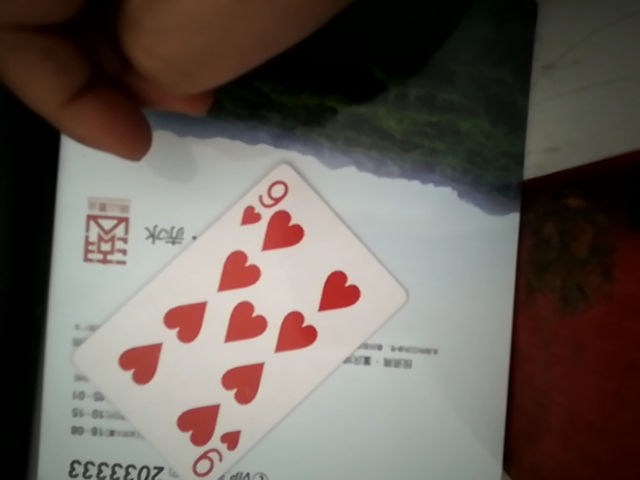hx 9: (63, 158, 410, 479)
